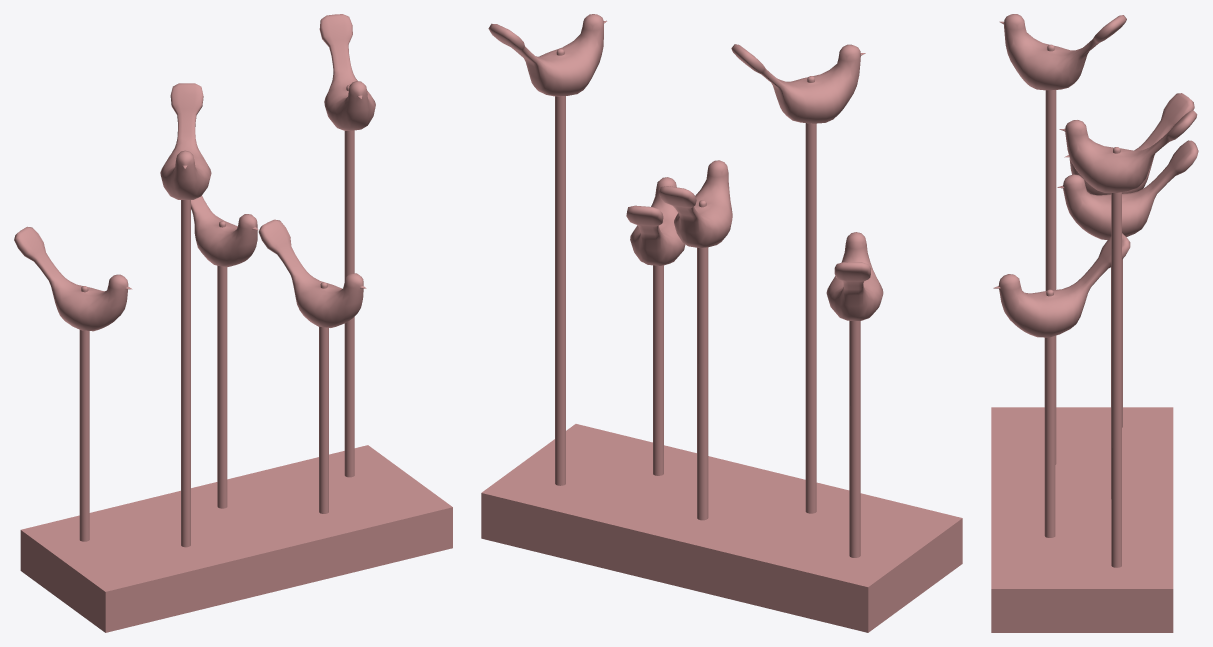
The model's file is Birds.fbx.
3 renders of one model, left to right at view 1: azimuth 30°, elevation 25°; view 2: azimuth 150°, elevation 25°; view 3: azimuth 270°, elevation 25°, orthographic. The views are drawn at different scales.
Parts seen in each view (by area): view 1: Birds; view 2: Birds; view 3: Birds.
Boxes of the visible parts, left/top/right/bottom form: Birds: left=14, top=14, right=452, bottom=632; Birds: left=481, top=14, right=962, bottom=632; Birds: left=991, top=14, right=1198, bottom=632.
Bounding box in the file's own units: 32.22 × 41.43 × 15.37.
